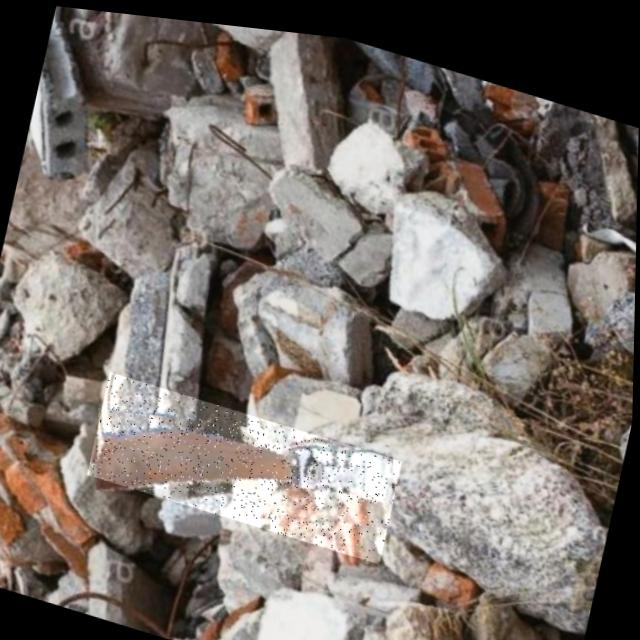Person in Rubble: (88, 367, 405, 556)
